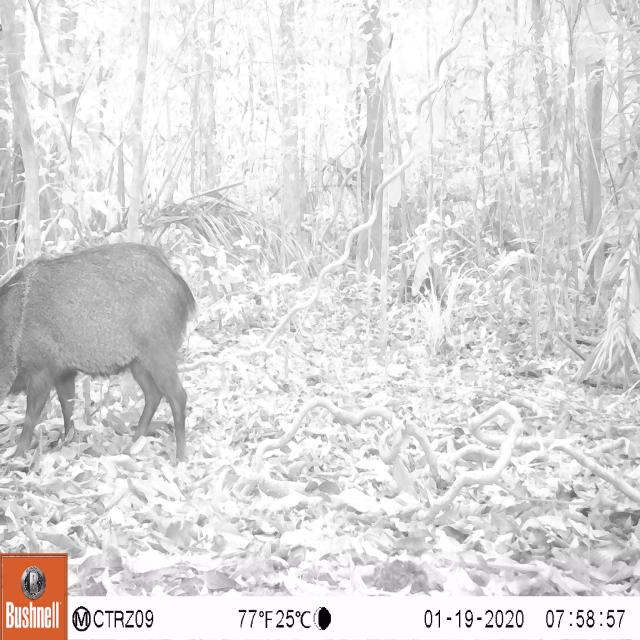Collared Peccary: (0, 224, 197, 469)
